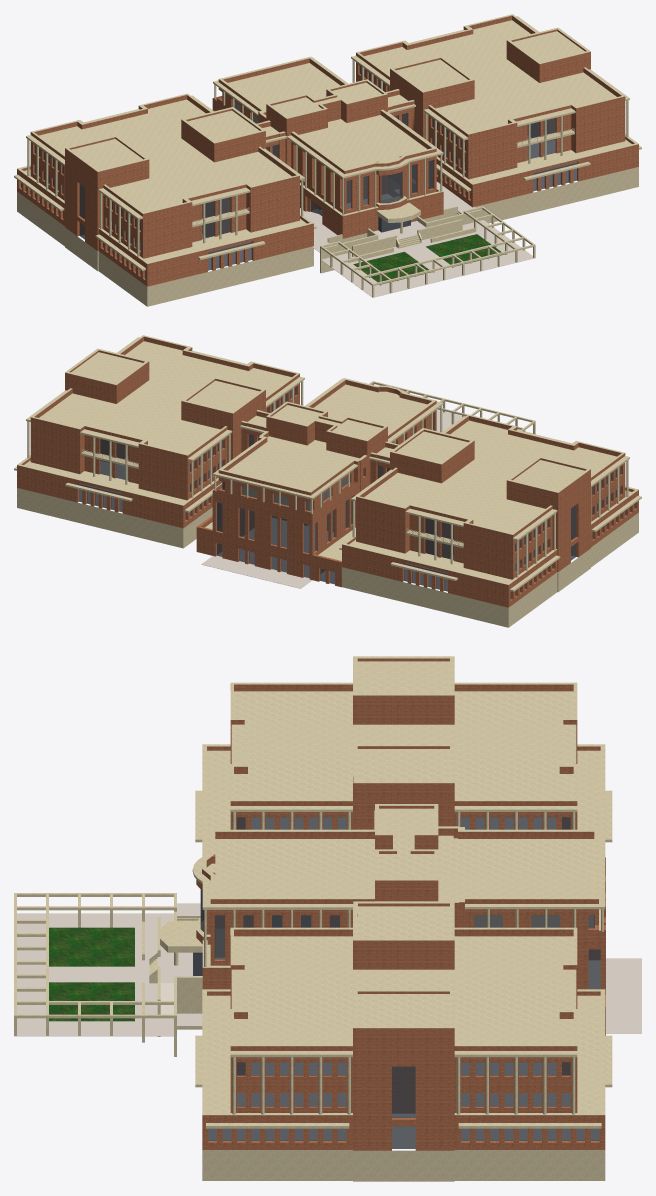
File: JuridicasCentral.fbx
3 renders of one model, top to bottom at view 1: azimuth 30°, elevation 25°; view 2: azimuth 150°, elevation 25°; view 3: azimuth 270°, elevation 25°, orthographic. The views are drawn at different scales.
Parts seen in each view (by area): view 1: BLANCO MATE, CARAVISTA ROJIZA, GRIS CLARO MATE, PAVIMENTO, CESPED, VENHOA_JURIDICAS, VEN_JURIDICAS, VENLARGA_JURIDICAS; view 2: BLANCO MATE, CARAVISTA ROJIZA, GRIS CLARO MATE, VEN_JURIDICAS, PAVIMENTO, VENHOA_JURIDICAS, VENLARGA_JURIDICAS, PUECE_JURIDICAS; view 3: BLANCO MATE, CARAVISTA ROJIZA, GRIS CLARO MATE, PAVIMENTO, VEN_JURIDICAS, CESPED, VENLARGA_JURIDICAS, VENHOA_JURIDICAS.
Part boxes in pixels (x1=…): BLANCO MATE: x1=14, y1=14, x2=641, y2=306; CARAVISTA ROJIZA: x1=17, y1=15, x2=638, y2=286; GRIS CLARO MATE: x1=26, y1=16, x2=629, y2=297; PAVIMENTO: x1=300, y1=181, x2=535, y2=297; CESPED: x1=353, y1=234, x2=504, y2=284; VENHOA_JURIDICAS: x1=79, y1=118, x2=555, y2=238; VEN_JURIDICAS: x1=21, y1=66, x2=576, y2=277; VENLARGA_JURIDICAS: x1=266, y1=113, x2=432, y2=209; BLANCO MATE: x1=14, y1=335, x2=641, y2=627; CARAVISTA ROJIZA: x1=17, y1=336, x2=638, y2=607; GRIS CLARO MATE: x1=26, y1=337, x2=629, y2=577; VEN_JURIDICAS: x1=79, y1=387, x2=634, y2=598; PAVIMENTO: x1=201, y1=410, x2=532, y2=588; VENHOA_JURIDICAS: x1=100, y1=439, x2=576, y2=559; VENLARGA_JURIDICAS: x1=217, y1=434, x2=389, y2=552; PUECE_JURIDICAS: x1=217, y1=543, x2=576, y2=584; BLANCO MATE: x1=195, y1=656, x2=612, y2=1181; CARAVISTA ROJIZA: x1=196, y1=658, x2=605, y2=1150; GRIS CLARO MATE: x1=14, y1=684, x2=605, y2=1114; PAVIMENTO: x1=14, y1=903, x2=641, y2=1036; VEN_JURIDICAS: x1=208, y1=817, x2=599, y2=1140; CESPED: x1=49, y1=927, x2=134, y2=1021; VENLARGA_JURIDICAS: x1=200, y1=889, x2=600, y2=989; VENHOA_JURIDICAS: x1=193, y1=916, x2=415, y2=1117.
Size of the model in its own units: 12390 by 2415 by 8730.
